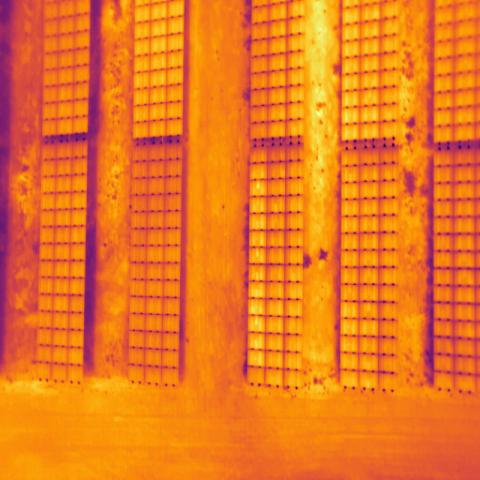fault: (247, 298, 266, 368)
